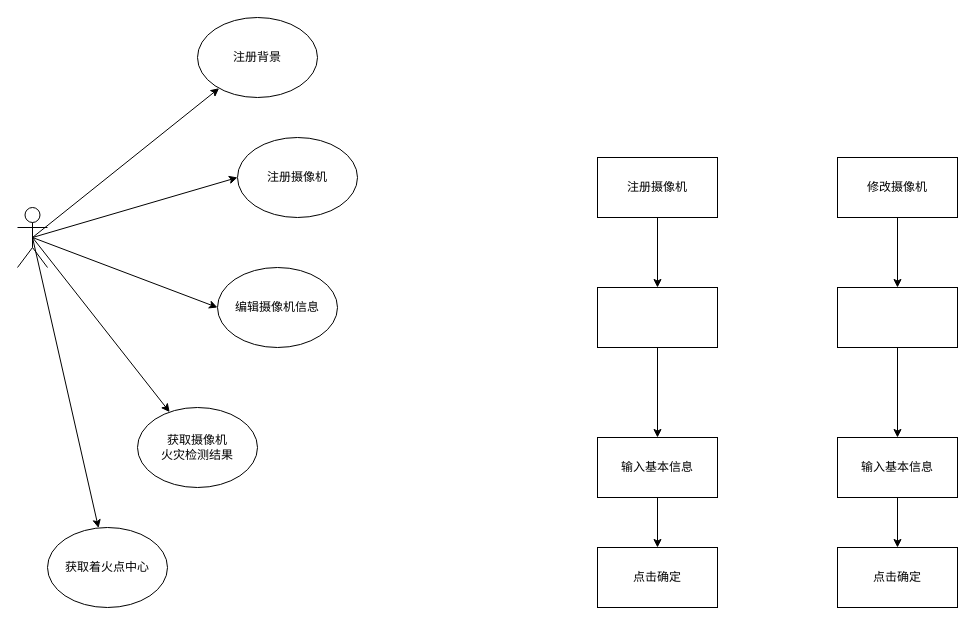
The diagram is 975 pixels wide and 625 high, and some of its shapes have lost their labels. The centre of each missing label's shape, as x and y in pixels:
"Actor" goes at (32,237).
"点击标记" goes at (897,317).
"点击界面" goes at (657,317).
